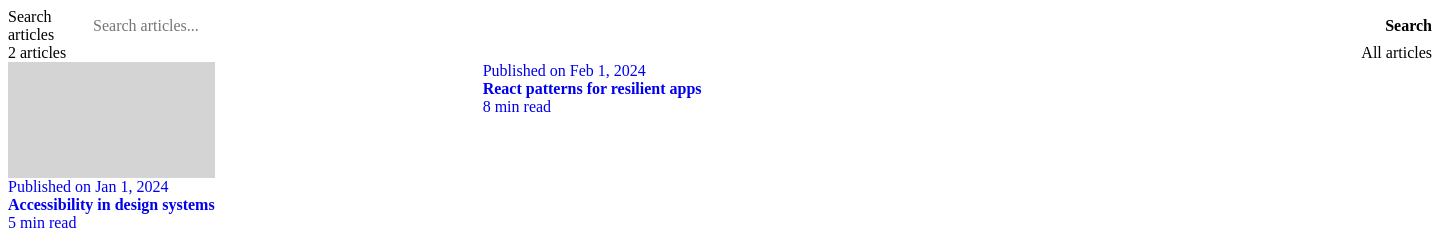
BlogSearch › filters articles by matching title, excerpt, category and tags
Type "react" into the search field labelled "Search articles" at (739, 26), box [93,17,1385,35]
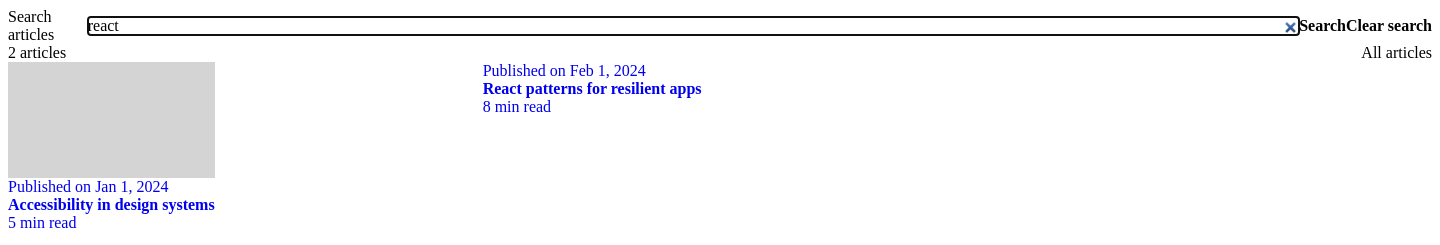
Expected: the text "2 articles" is shown, [8,44,66,62]
Click the button "Search" at (1322, 26), box [1299,17,1346,35]
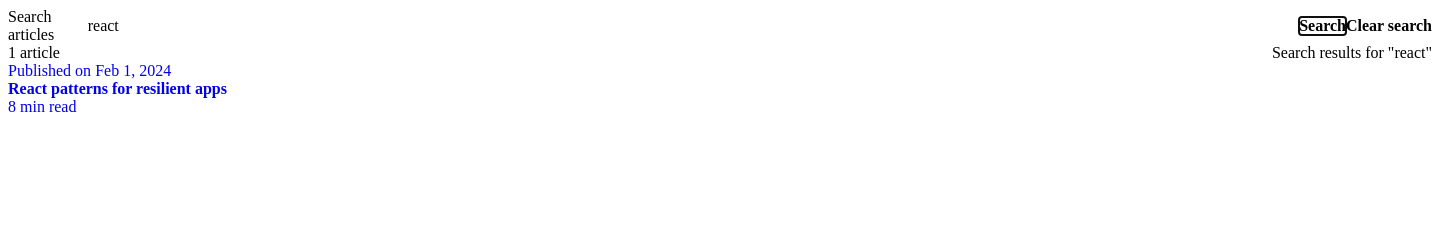
Expected: the heading "React patterns for resilient apps" is shown, [8,80,227,98]
Now the text "1 article" is shown, box [8,44,60,62]
Now the link "Accessibility in design systems" is gone
